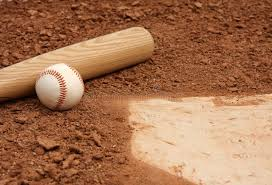baseball bat: (1, 24, 156, 102)
